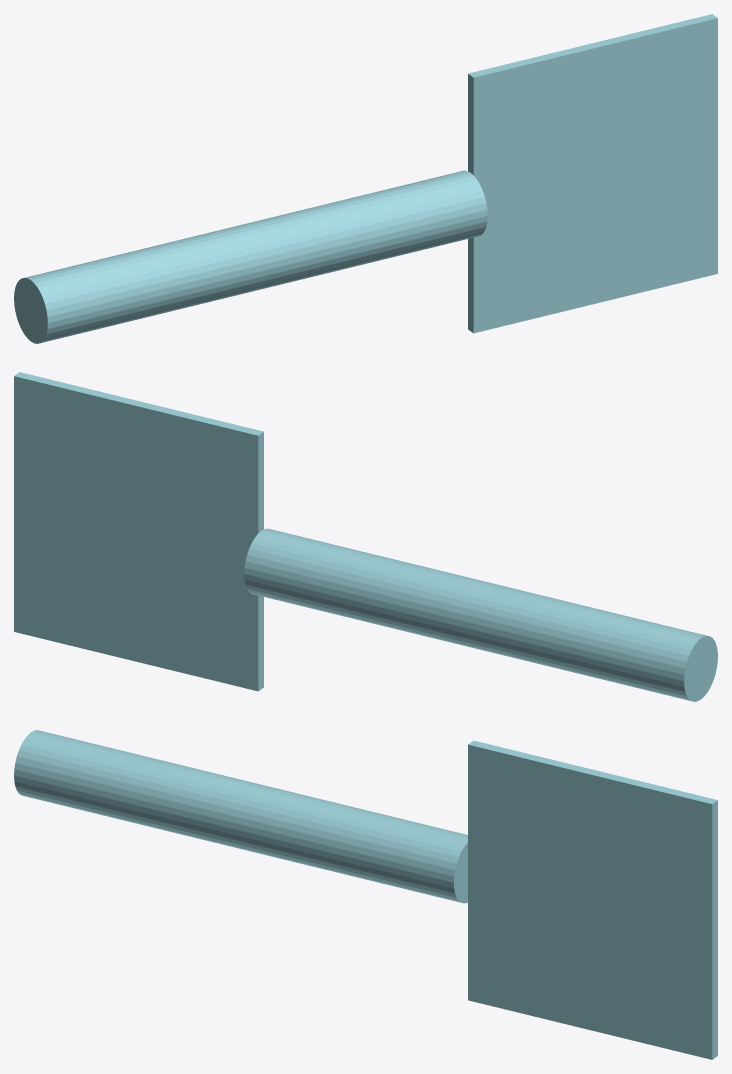
Rendered from large_spatula.obj.
3 views of the same model, one above another, from view 1: azimuth 30°, elevation 25°; view 2: azimuth 150°, elevation 25°; view 3: azimuth 330°, elevation 25° (orthographic).
Size of the model in its own units: 0.28 by 0.1 by 0.024.
